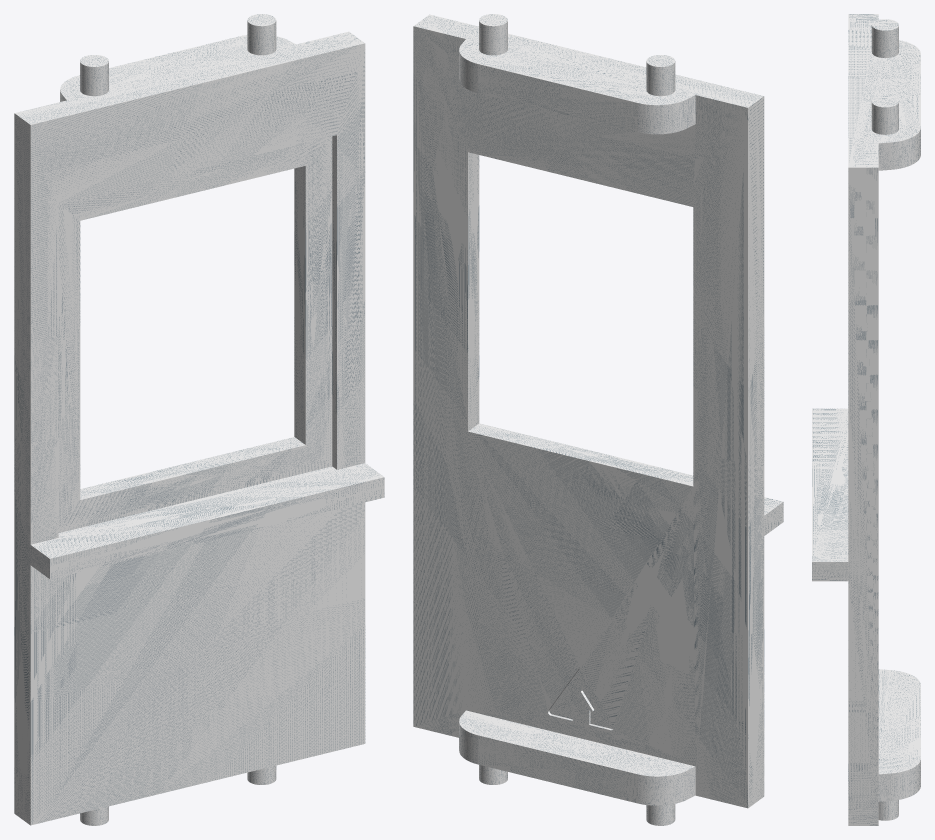
3 views of the same model, side by side, from view 1: azimuth 30°, elevation 25°; view 2: azimuth 150°, elevation 25°; view 3: azimuth 270°, elevation 25° (orthographic). The views are drawn at different scales.
Parts seen in each view (by area): view 1: Piece.ArckitWindowPicture (×6); view 2: Piece.ArckitWindowPicture (×5); view 3: Piece.ArckitWindowPicture (×4).
Part boxes in pixels (<box>): Piece.ArckitWindowPicture (×6): <box>14,14,384,825</box>; Piece.ArckitWindowPicture (×5): <box>413,14,783,808</box>; Piece.ArckitWindowPicture (×4): <box>812,14,920,825</box>.
Size of the model in its own units: 47.24 by 14.17 by 102.
